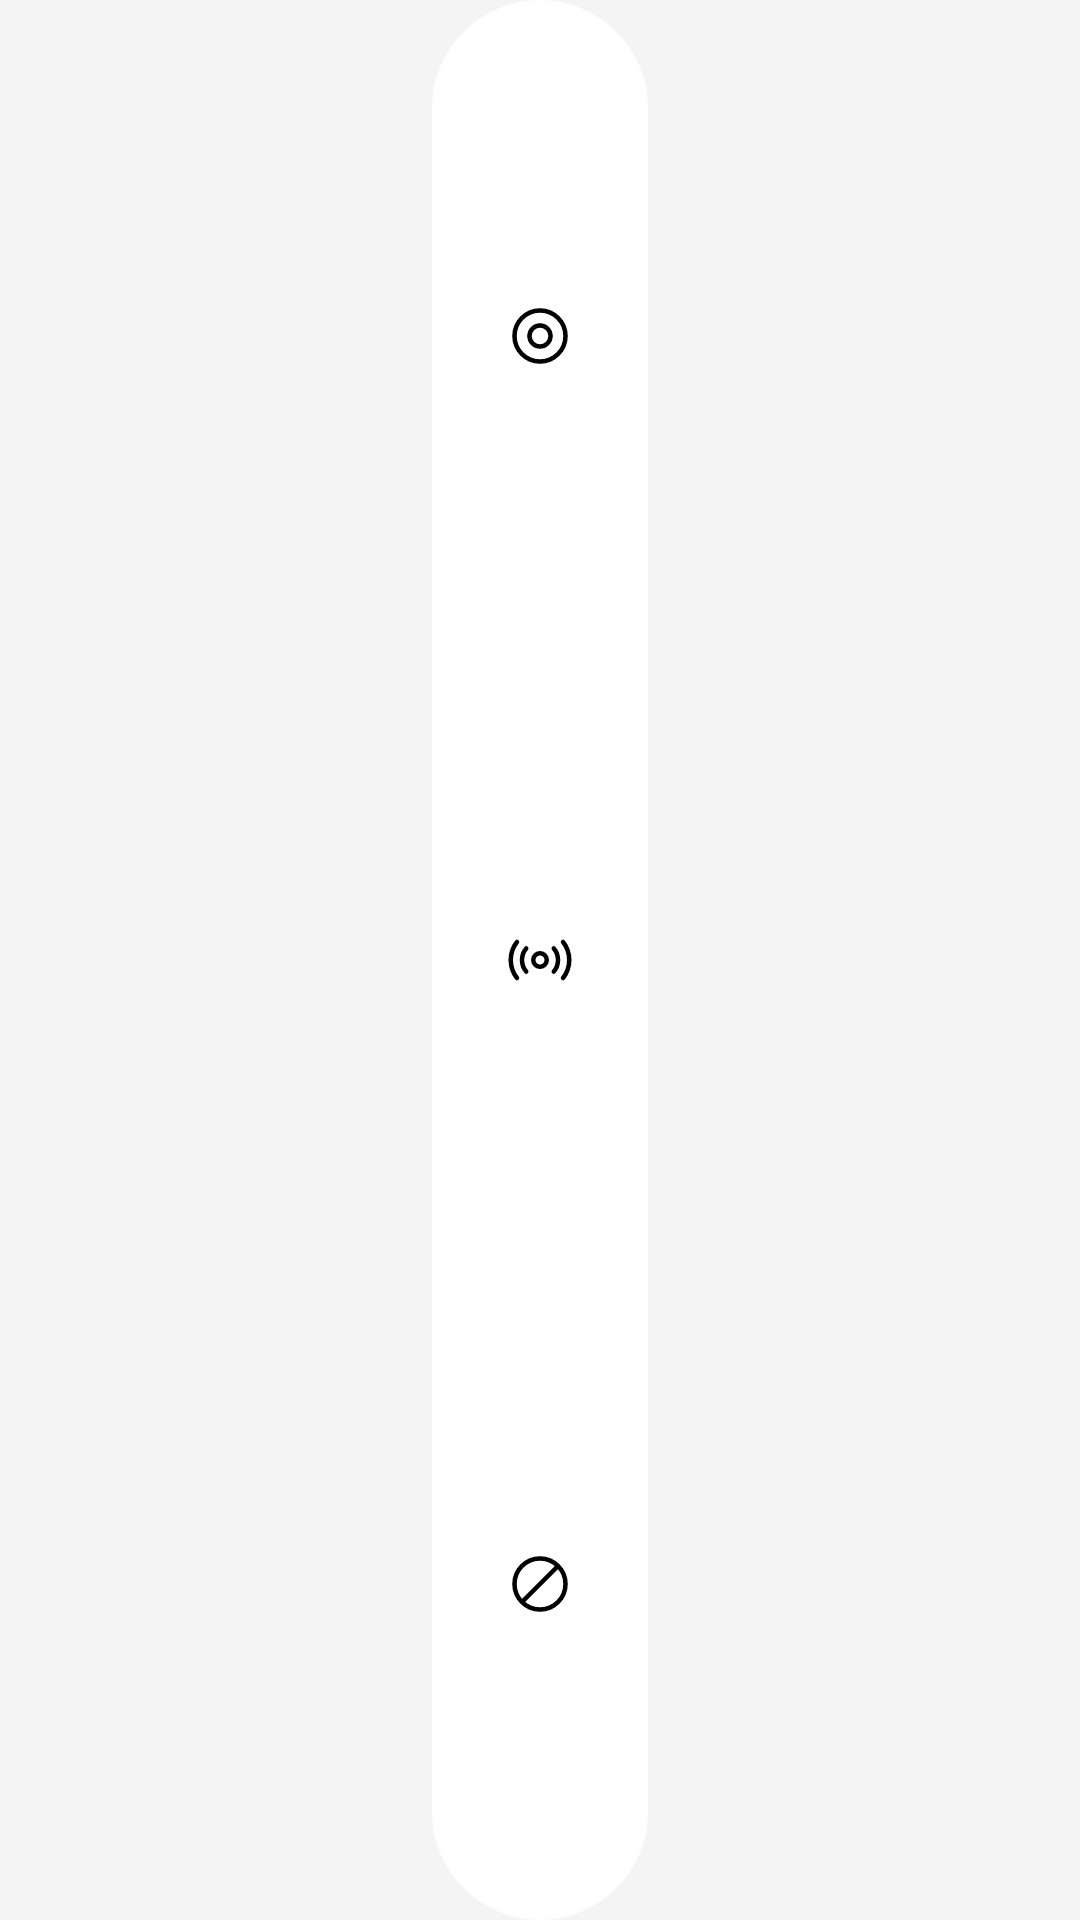

Icon bounding boxes for this 1080w x 1920h phone screenshot, format (x1, y1, x2, y2):
mode anc: (512, 308, 568, 364)
mode off: (512, 1556, 568, 1612)
mode transparency: (508, 939, 572, 981)
